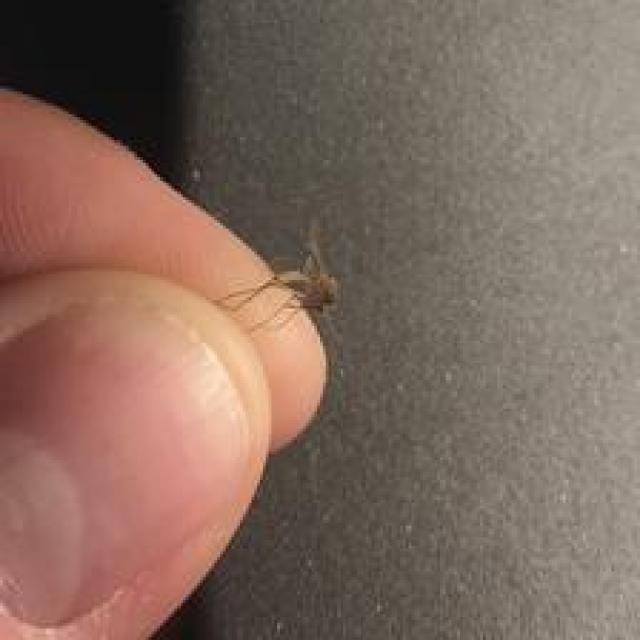Culex: (213, 218, 341, 338)
